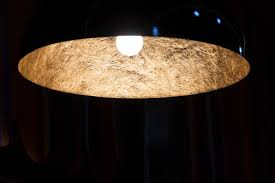bulb: (110, 32, 145, 62)
